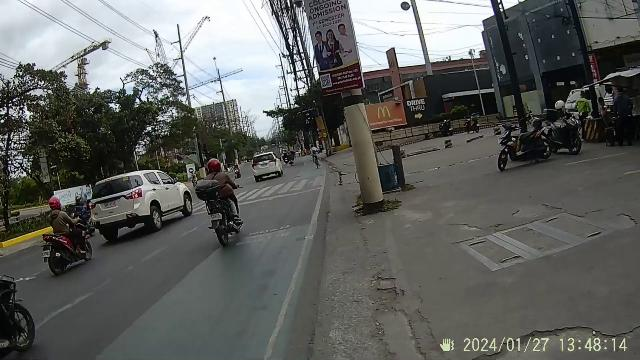motorcycle: (488, 118, 588, 174)
utility_post: (306, 1, 410, 227)
